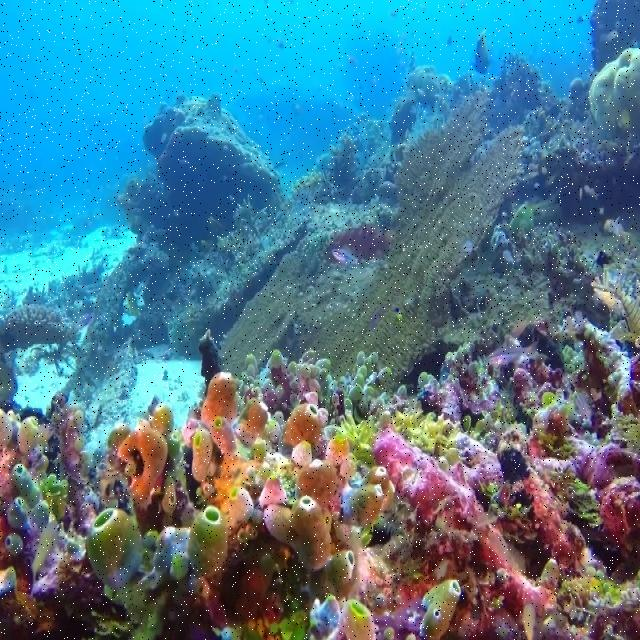reefs: (117, 94, 284, 259), (259, 458, 336, 570), (107, 403, 180, 512), (87, 508, 142, 590), (345, 466, 394, 529), (188, 506, 228, 577), (7, 464, 49, 529), (419, 581, 460, 639), (283, 405, 320, 466), (200, 372, 237, 429), (321, 549, 355, 595), (339, 601, 376, 639), (192, 430, 213, 484), (209, 417, 236, 456), (325, 433, 348, 467), (6, 534, 23, 555)
